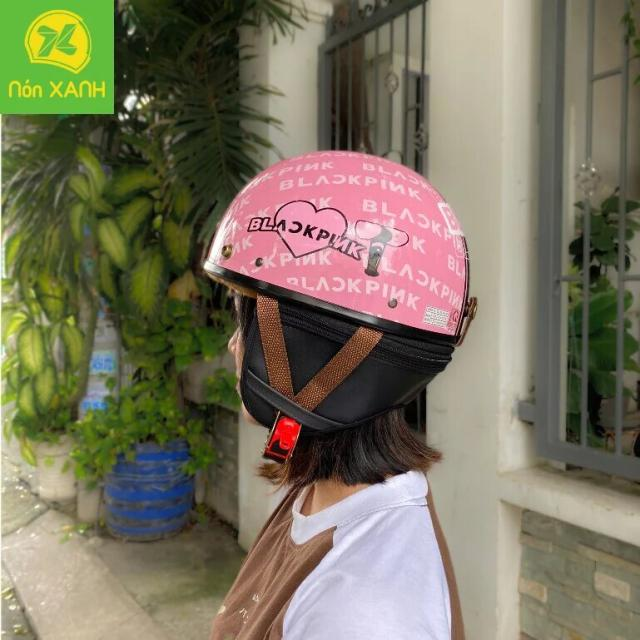helmet: (198, 144, 483, 472)
